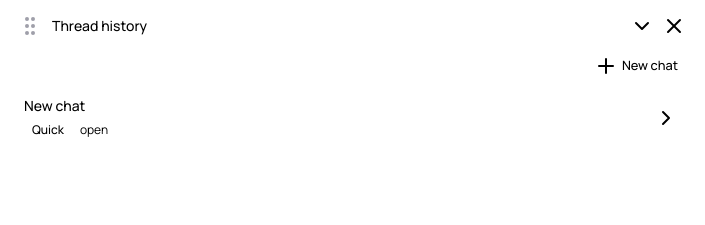
history › shows chat-mimicking skeleton bubbles while a thread loads
Click the button named "open new chat": click(666, 118) [652,104,680,132]
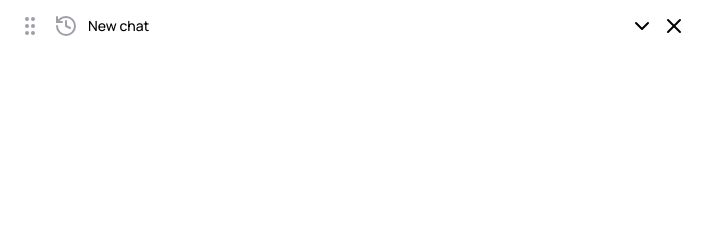
Check: the text "Thread history" is gone
